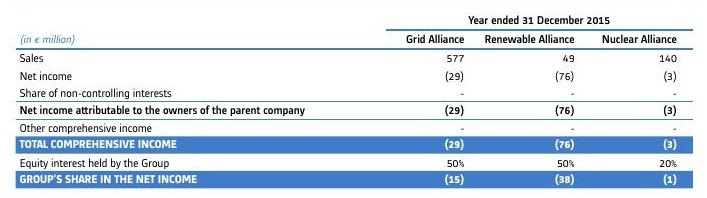table: (0, 0, 707, 198)
